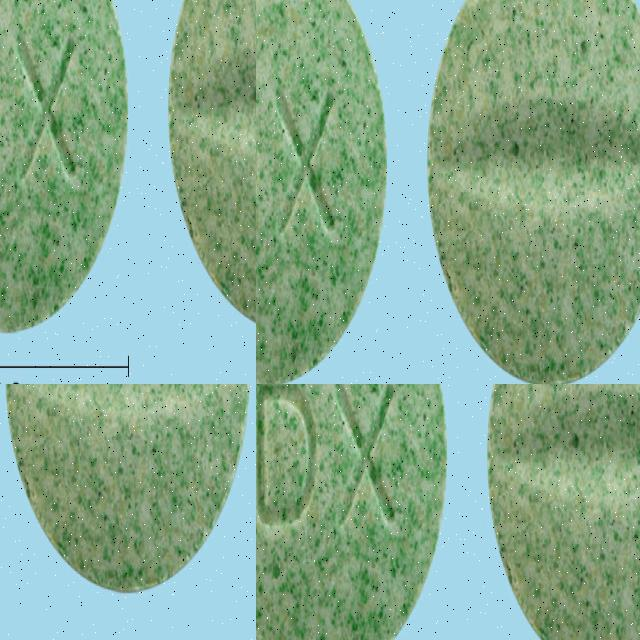Doxymycin N: (256, 384, 448, 640), (485, 384, 640, 640)
Immuthera: (35, 167, 174, 384)
Vancozin Cap-250mg: (512, 0, 624, 384), (256, 186, 449, 384)
